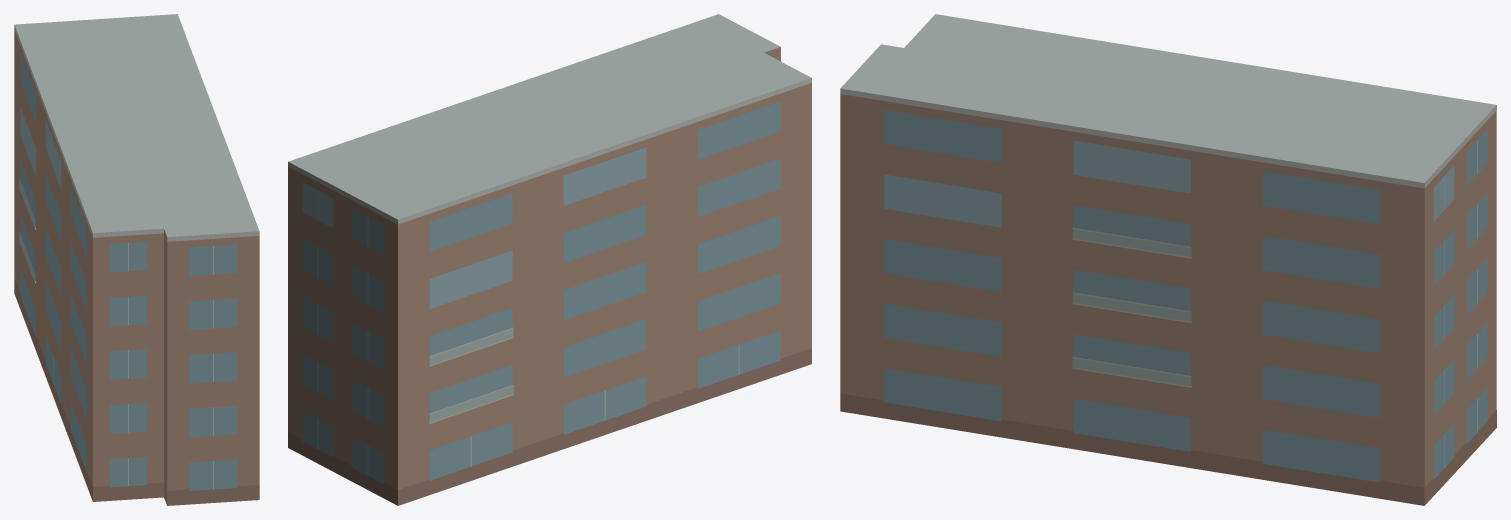
The model's file is survey-upis-32618368.glb.
3 renders of one model, left to right at view 1: azimuth 30°, elevation 25°; view 2: azimuth 150°, elevation 25°; view 3: azimuth 270°, elevation 25°, orthographic. The views are drawn at different scales.
Visible parts, largest first — view 1: survey-upis-32618368.tmp; view 2: survey-upis-32618368.tmp; view 3: survey-upis-32618368.tmp.
Boxes of the visible parts, <box> form: survey-upis-32618368.tmp: <box>14,14,259,505</box>; survey-upis-32618368.tmp: <box>288,14,811,505</box>; survey-upis-32618368.tmp: <box>840,14,1496,505</box>.
Bounding box in the file's own units: 16.06 × 14.3 × 26.36.
